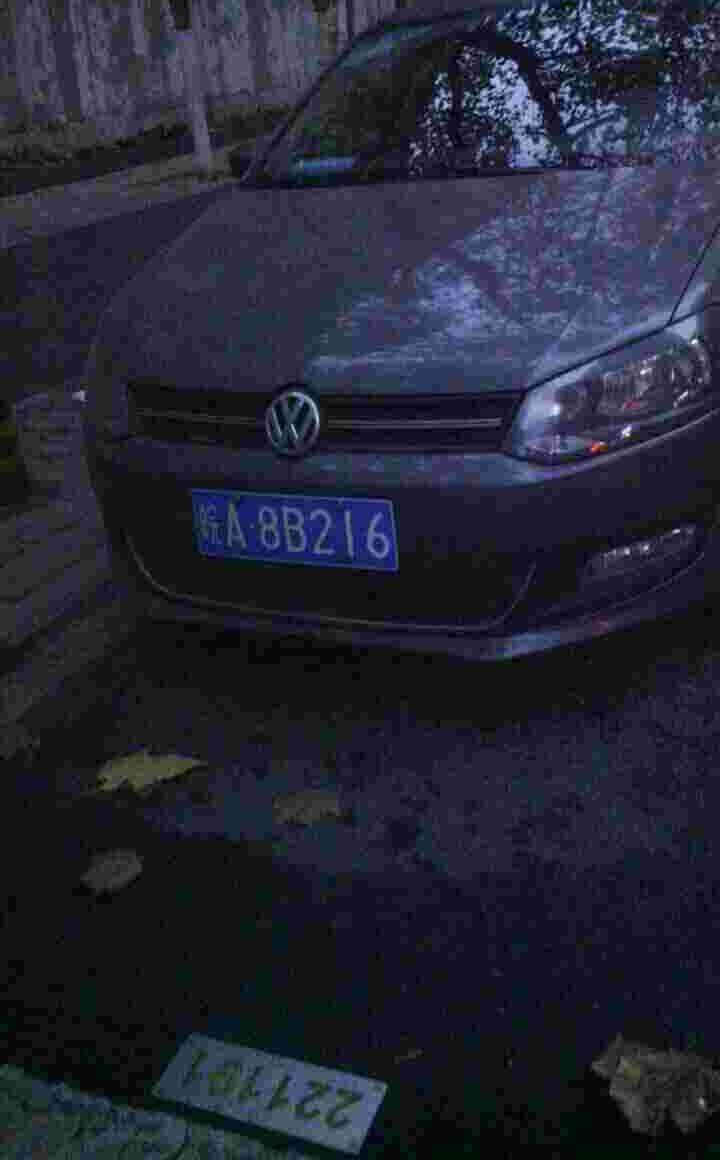plate: (185, 484, 404, 575)
